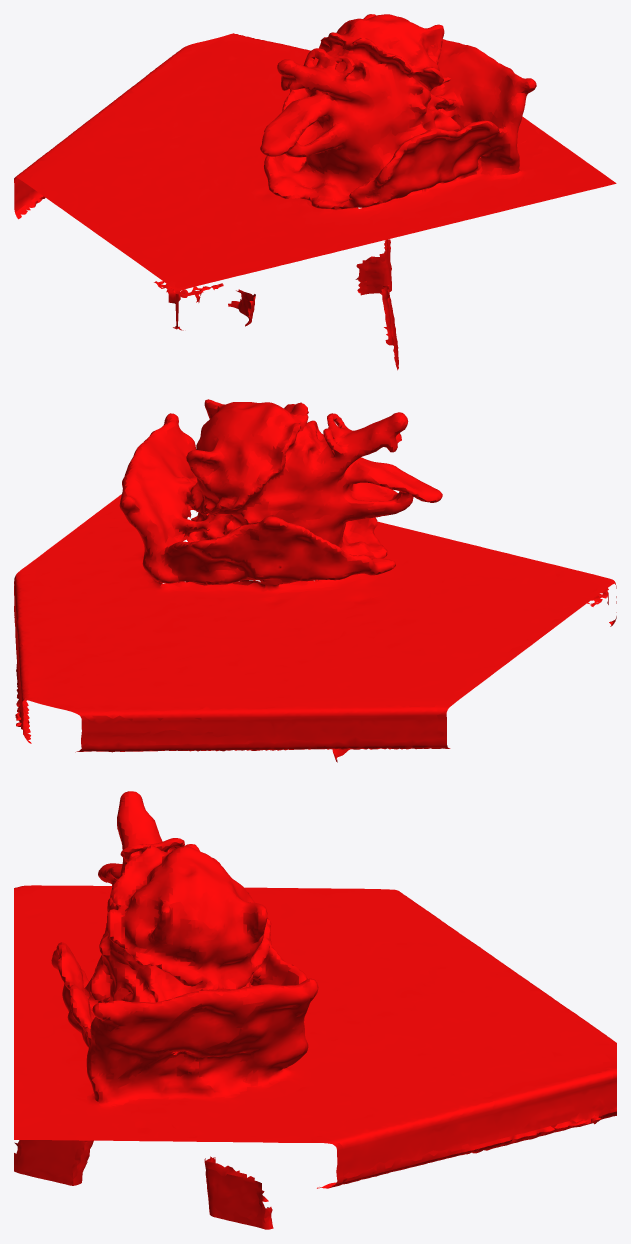
File: loup_rouge.glb
3 views of the same model, one above another, from view 1: azimuth 30°, elevation 25°; view 2: azimuth 150°, elevation 25°; view 3: azimuth 270°, elevation 25° (orthographic). The views are drawn at different scales.
Parts seen in each view (by area): view 1: Model; view 2: Model; view 3: Model.
Part boxes in pixels (x1=…): Model: x1=14, y1=14, x2=616, y2=370; Model: x1=14, y1=399, x2=616, y2=762; Model: x1=14, y1=791, x2=616, y2=1229.
Bounding box in the file's own units: 0.489 × 0.3081 × 0.489.
1 material, 1 textured.
